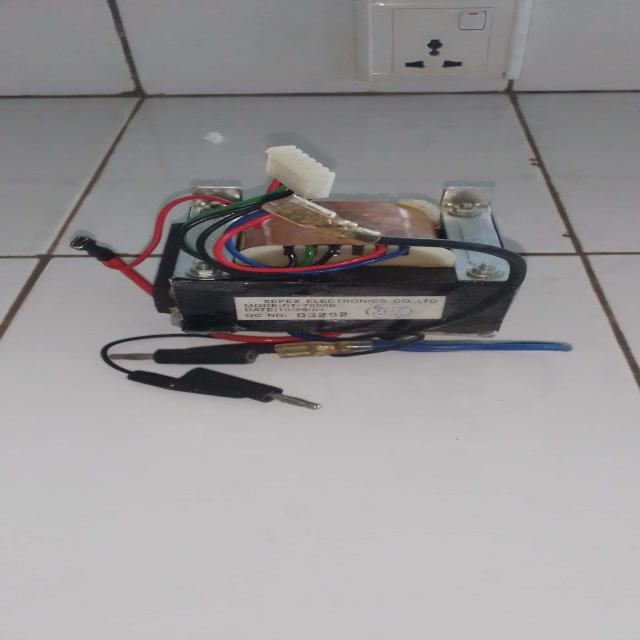Stepdown Transformer: (95, 167, 607, 357)
